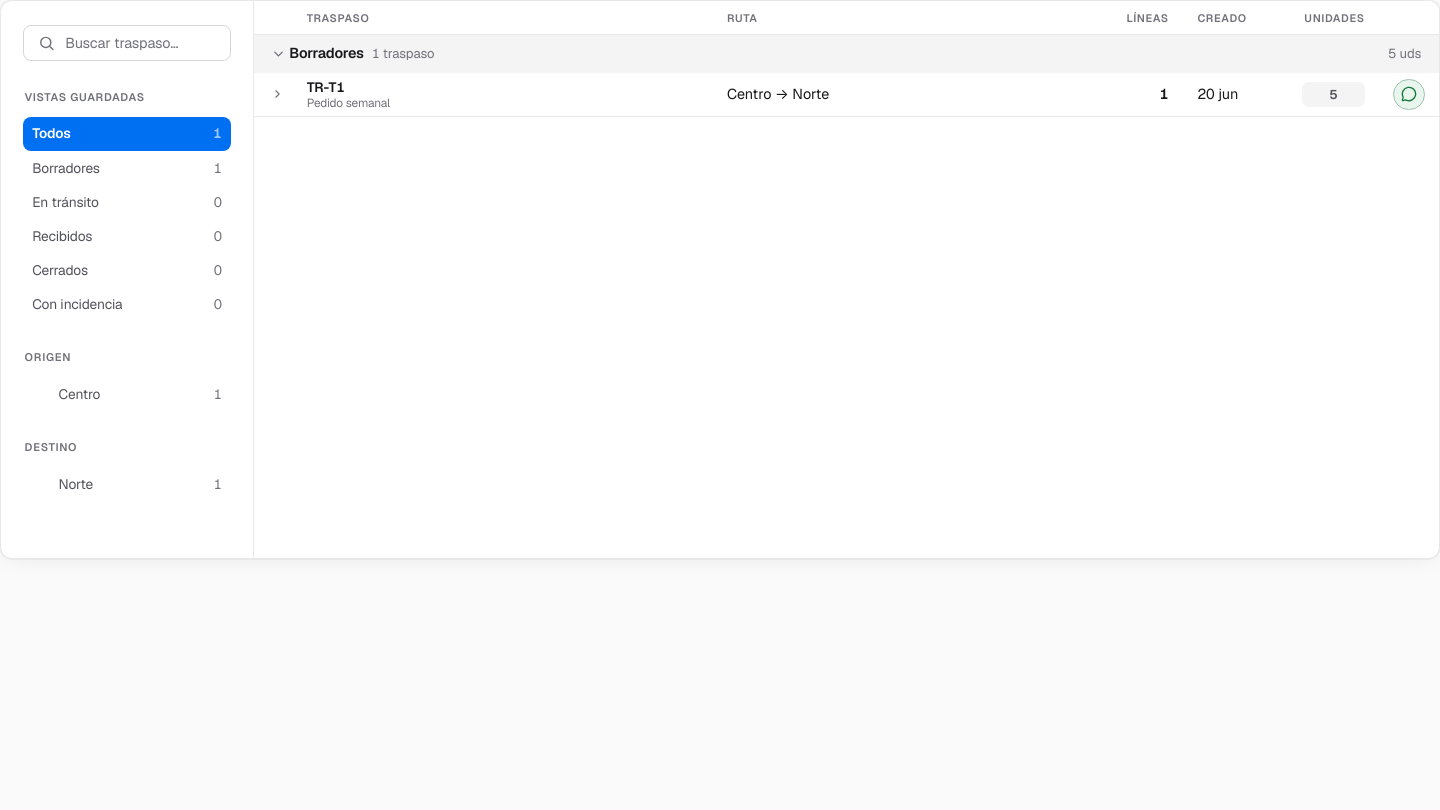
Test: TransfersSection v2 — grupos, detalle en línea y ciclo de vida › agrupa por estado y despliega el detalle en línea al pulsar una fila
This screenshot has width=1440, height=810.
Expected: the text "Pedido semanal" is shown, [307, 95, 390, 110]
Expected: the text "Borradores" in the row of "5 uds" is shown, [289, 44, 364, 62]
Click the row with test id "transfer-row". click: click(846, 95)
box: [254, 73, 1439, 117]
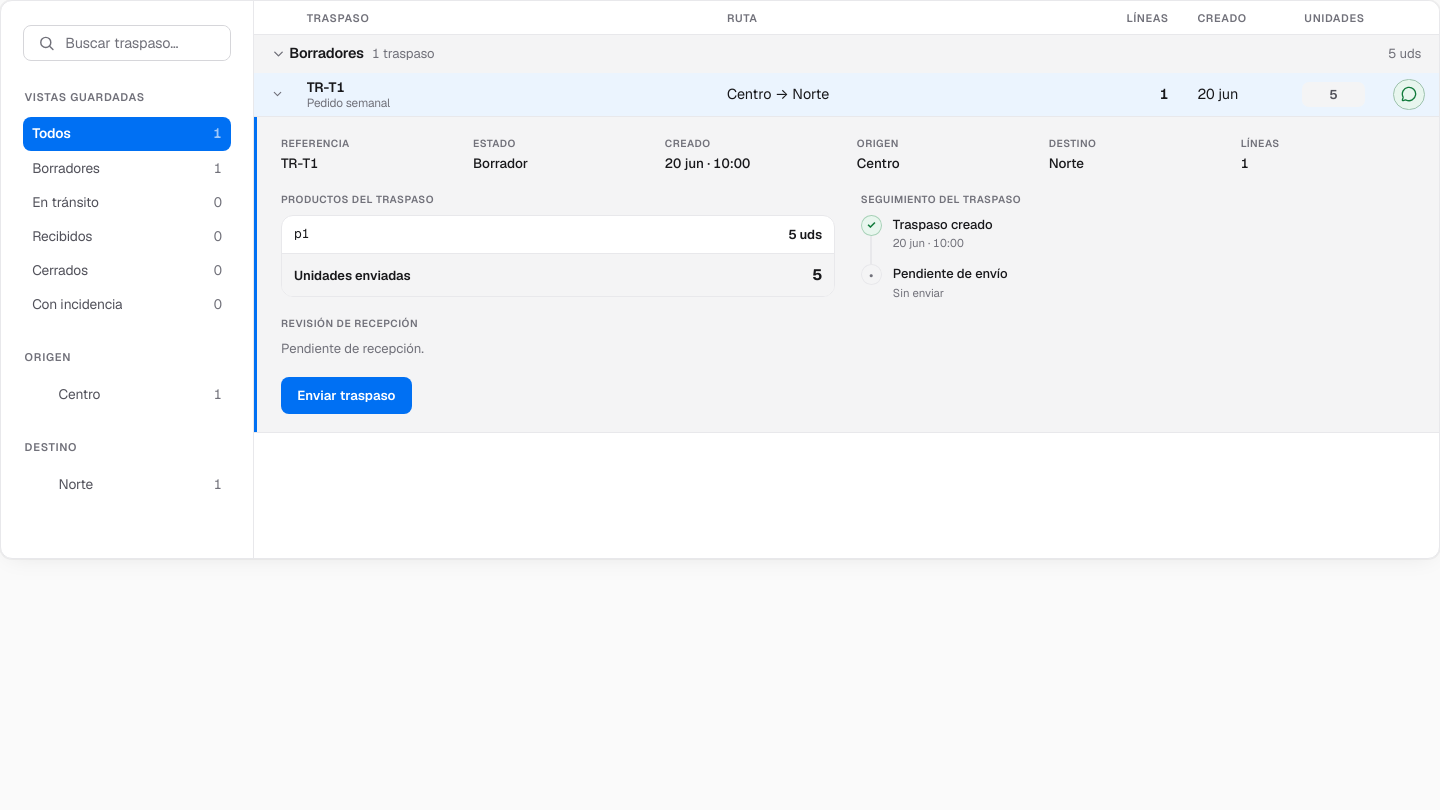
Now the text "Traspaso creado" is shown, box [893, 215, 993, 235]
